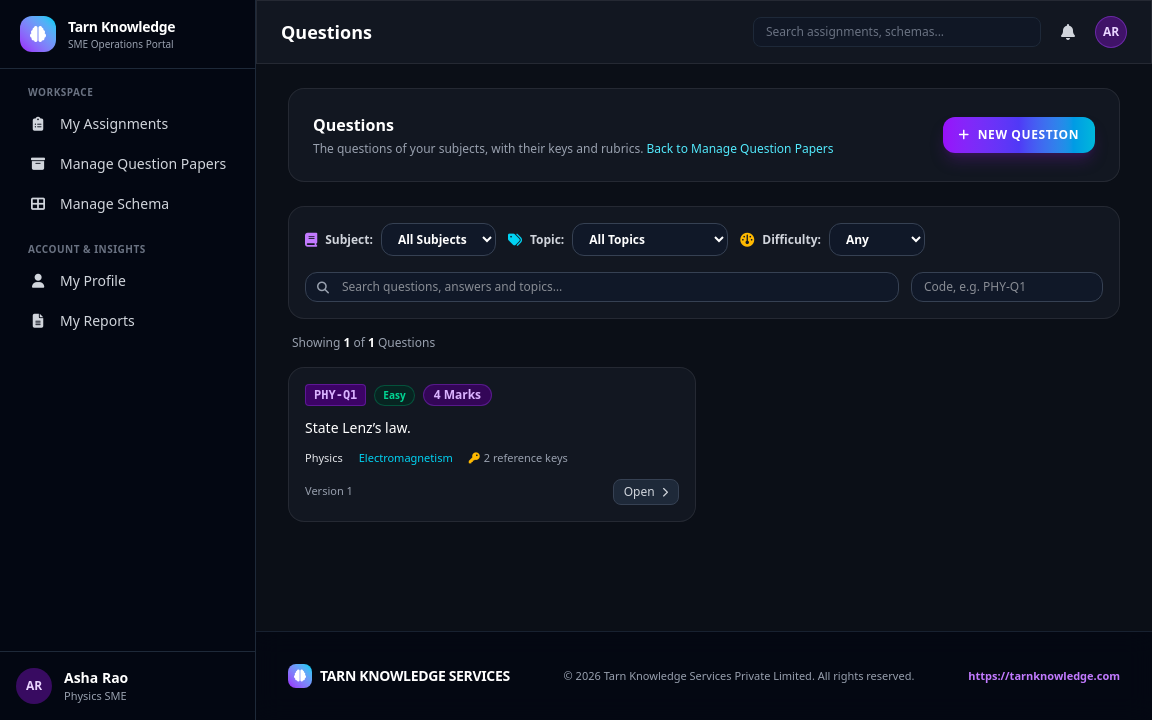
question detail › labels a synthetic key as dev only, and leaves a faculty key unlabelled
The width and height of the screenshot is (1152, 720).
Click the button with aria-label "Open PHY-Q1".
click(646, 492)  # box left=613, top=478, right=679, bottom=504
(page scrolled)
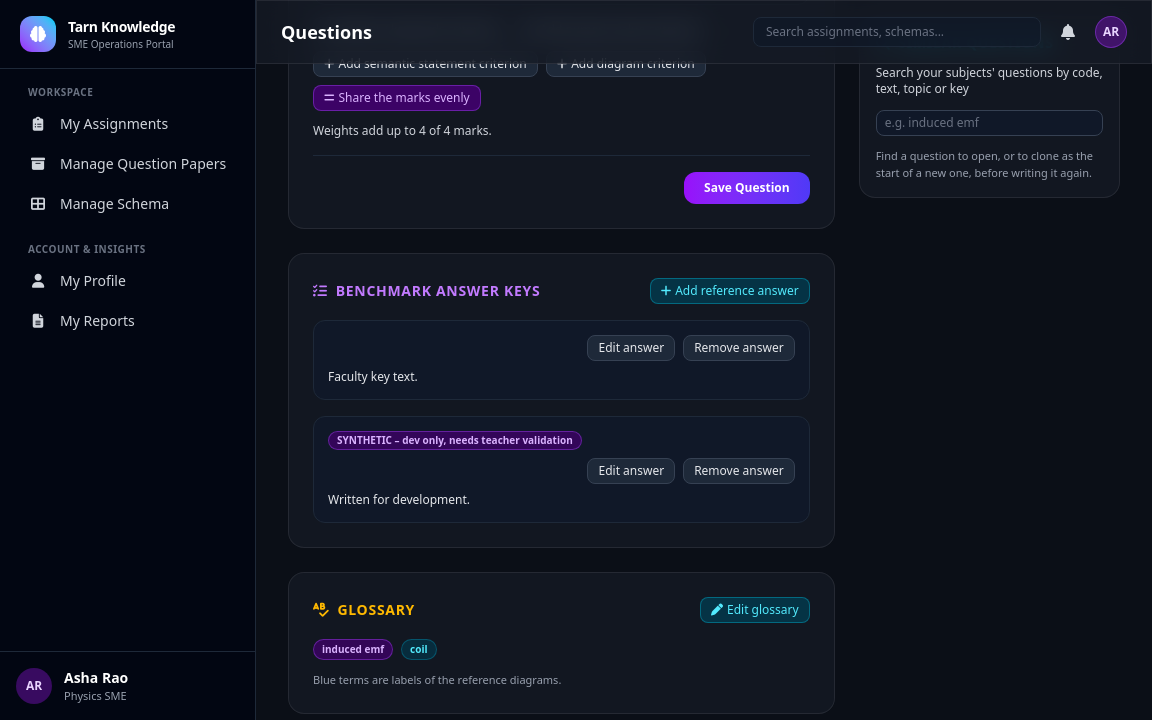
Expected: the element named "Benchmark answers" is shown, left=288, top=253, right=835, bottom=548
